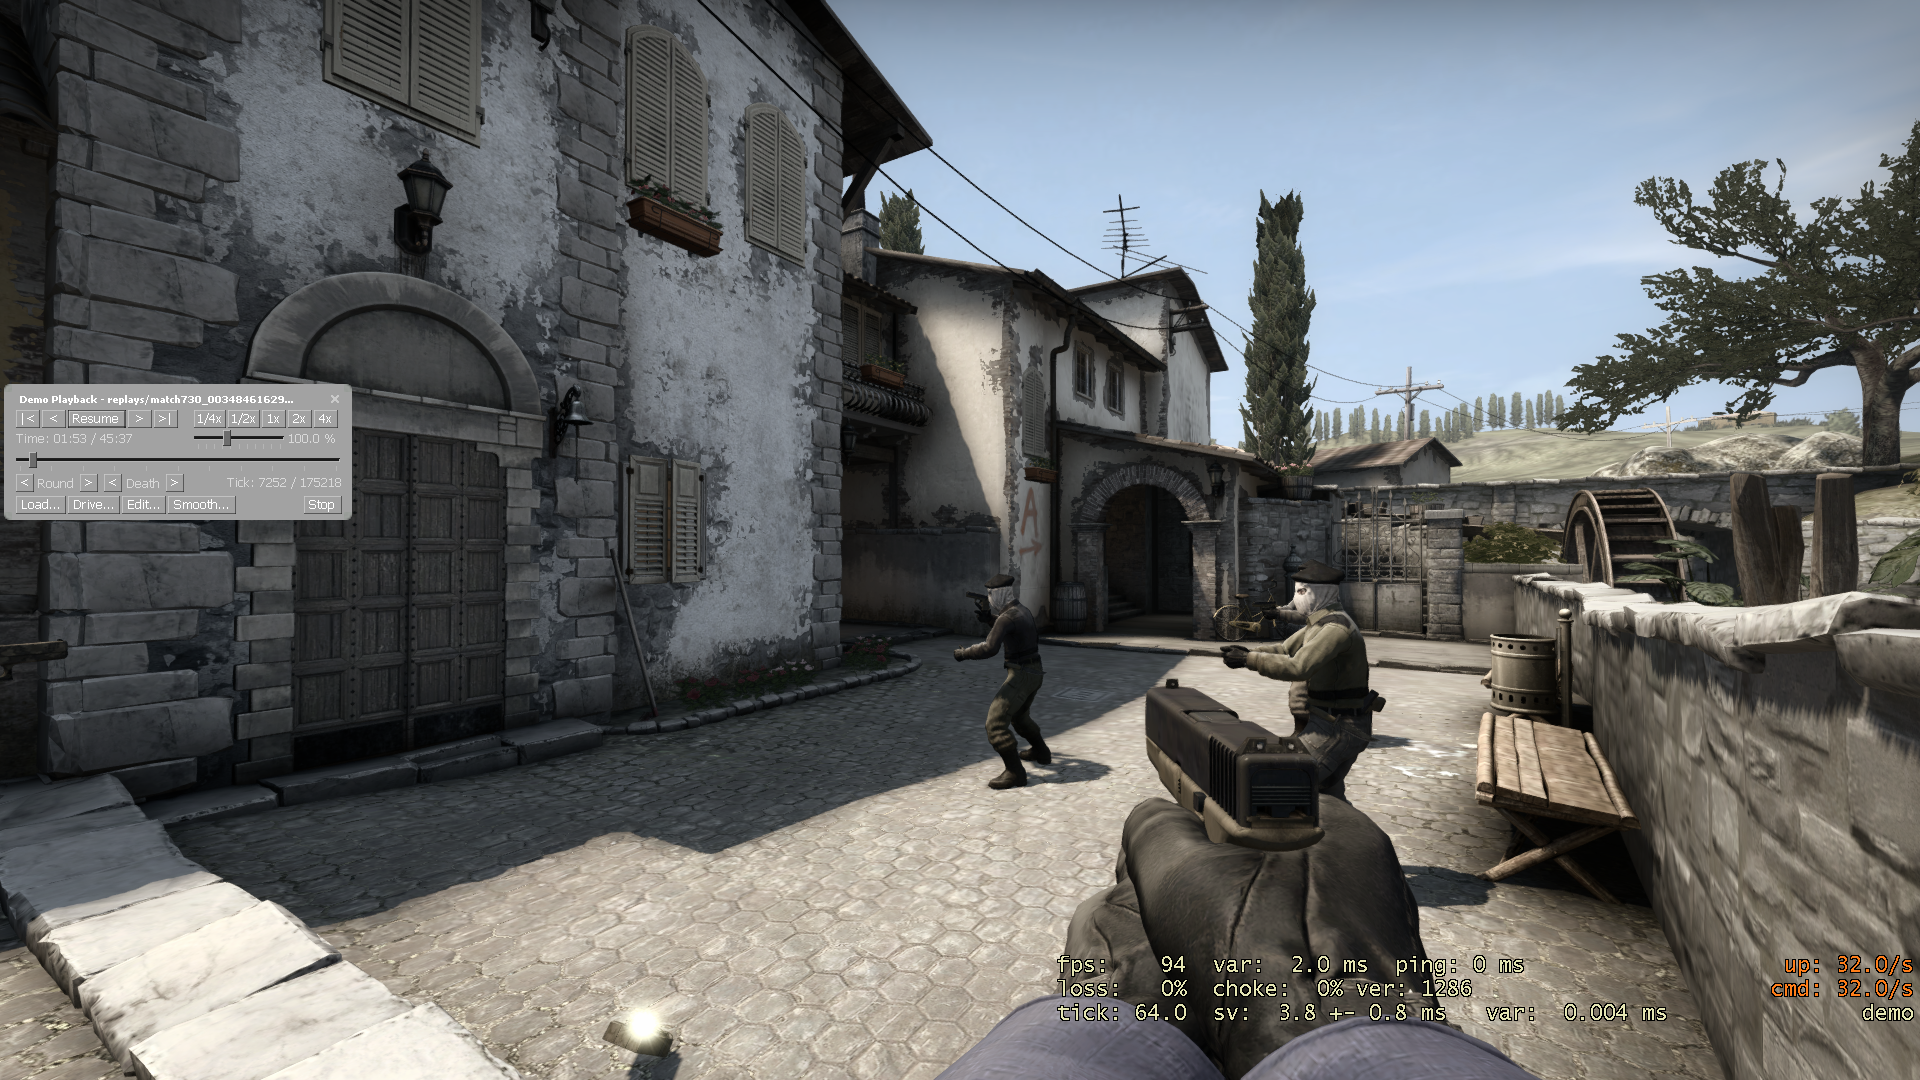t: (1230, 564, 1374, 804), (951, 582, 1051, 790)
